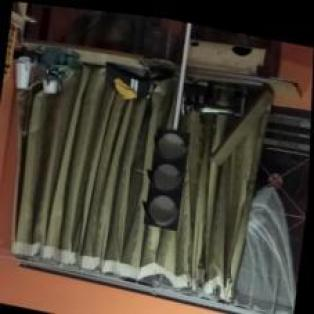Semaforo Verde: (141, 122, 191, 227)
